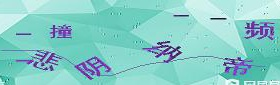chinese: (149, 40, 181, 64), (30, 46, 58, 73), (77, 57, 108, 80), (247, 20, 275, 42), (226, 57, 251, 76), (49, 24, 72, 39)
